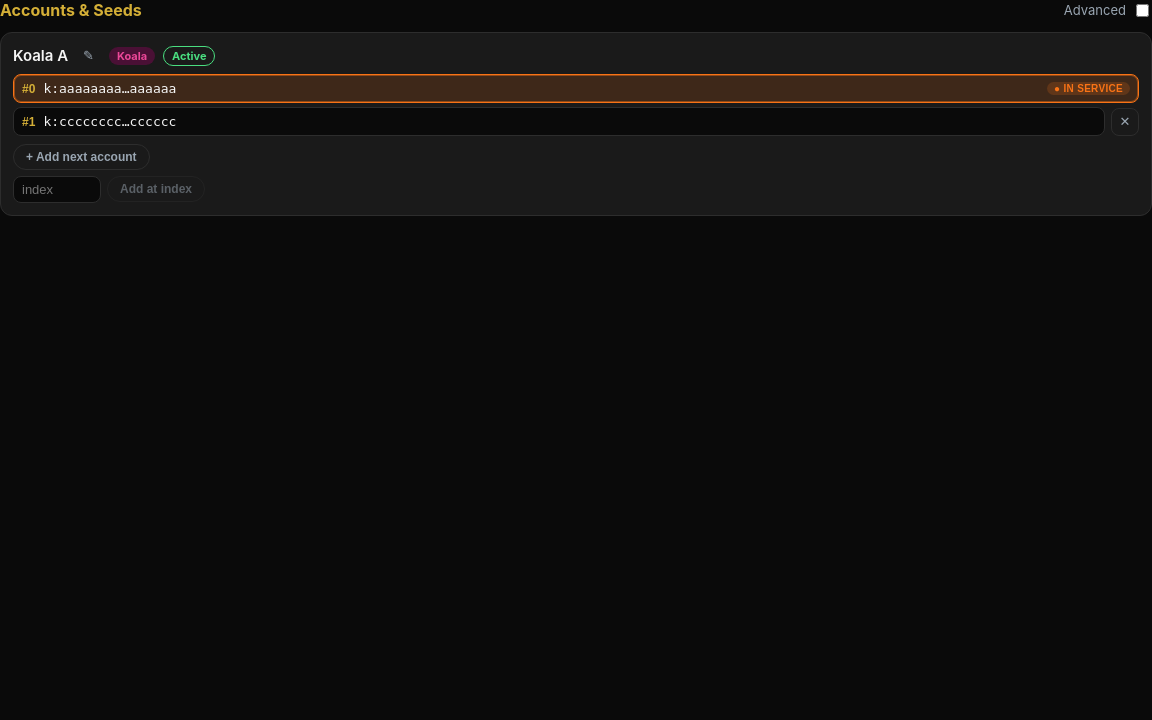
Test: AdvancedTab › ADVANCED mode reveals all seeds + the codex import panel
The image size is (1152, 720).
Expected: the element with test id "seed-wallet-1" is shown, [0,32,1151,216]
Click the checkbox with test id "advanced-mode-toggle" at (1142, 10), box [1136,4,1149,16]
(page scrolled)
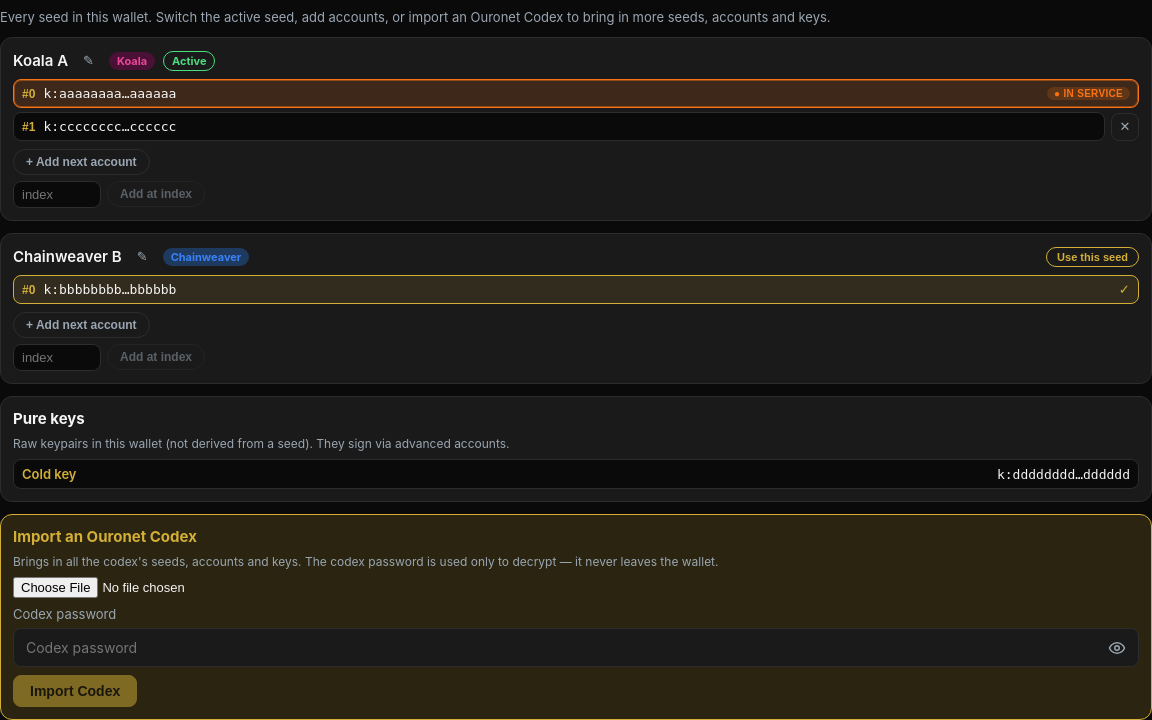
Result: the element with test id "seed-wallet-2" is shown at [0,233,1151,384]
Result: the element with test id "seed-wallet-2" shows "Chainweaver" at [171,250,241,264]
Result: the button with test id "use-seed-wallet-2" is shown at [1046,246,1139,266]
